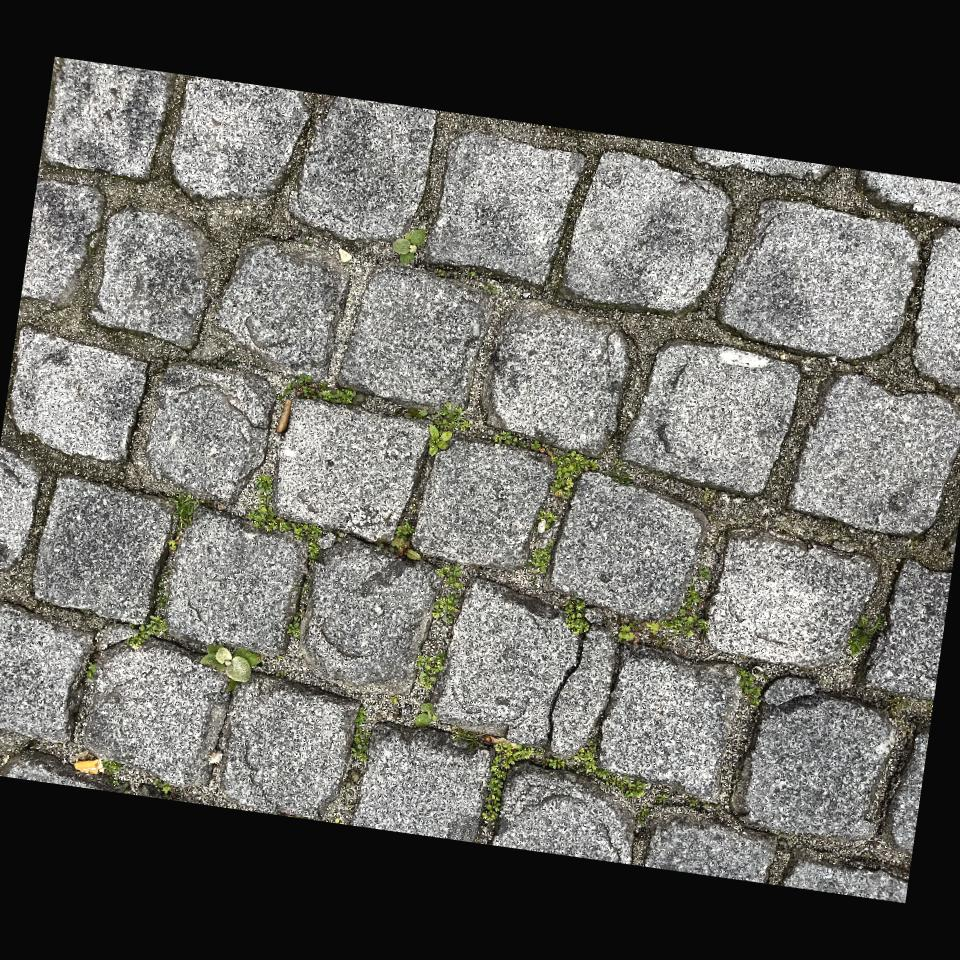weed: (247, 475, 334, 559), (619, 581, 708, 644), (565, 741, 647, 798), (482, 744, 535, 822), (200, 645, 259, 691), (137, 565, 171, 637), (281, 375, 362, 405), (166, 492, 204, 555), (550, 451, 597, 499), (525, 508, 559, 573), (433, 564, 463, 625), (429, 403, 461, 456), (494, 431, 553, 458), (848, 615, 883, 657), (351, 706, 375, 766), (737, 666, 765, 708), (392, 229, 425, 264), (417, 652, 446, 691), (566, 599, 590, 635), (414, 703, 437, 727), (460, 420, 471, 430)
